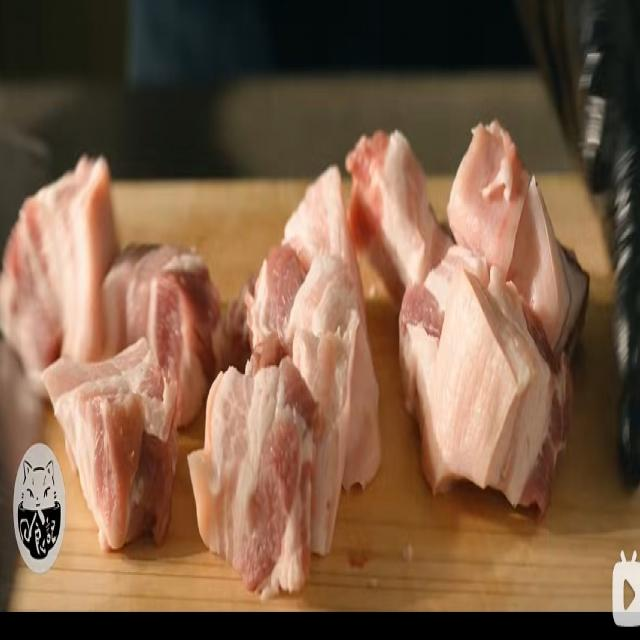Pork: (235, 150, 381, 570), (411, 248, 569, 543), (449, 93, 586, 341), (188, 361, 317, 598), (42, 338, 182, 553), (2, 161, 117, 398), (332, 95, 454, 304), (102, 244, 222, 432)
